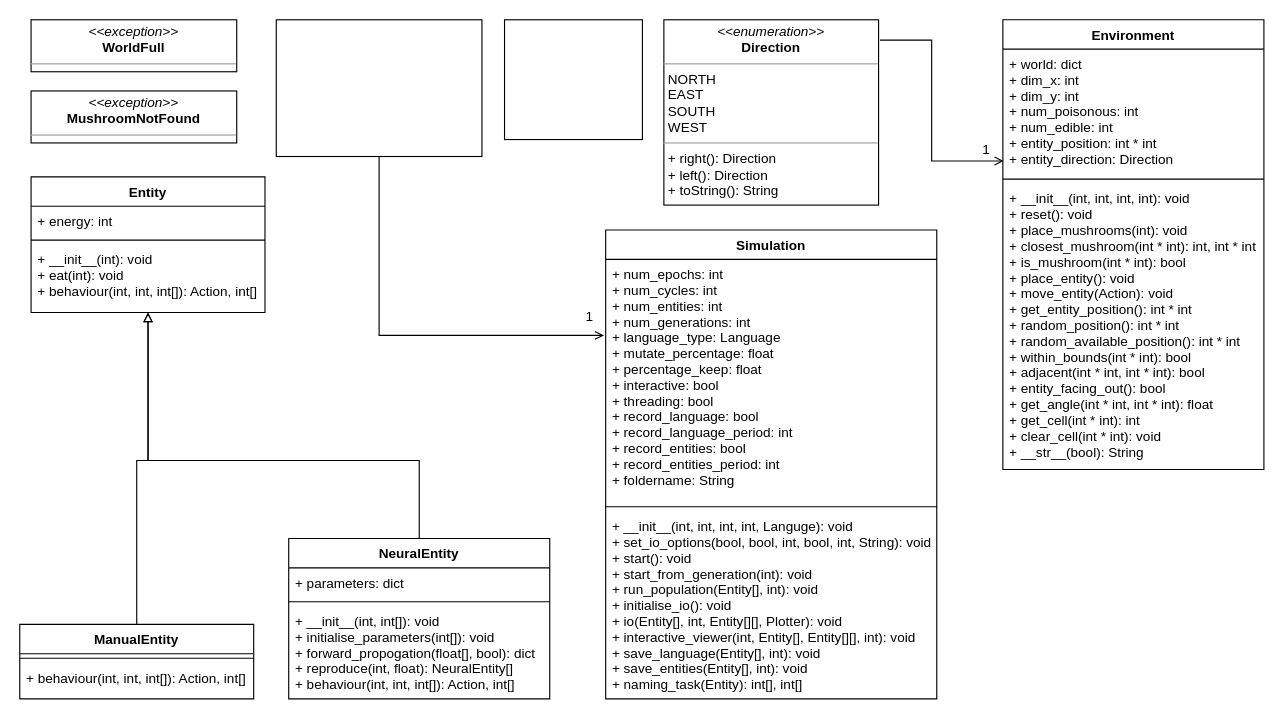
Some shapes in this 1284 by 722 pixel diagram are drawn without their labels. Here are the shapes that lost their labels. From the top down, the centre of each, then its label:
At (378,88): "<<enumeration>> Language NONE EXTERNAL EVOLVED + fromString(String): Language".
At (572,79): "<<enumeration>> Action FORWARDS LEFT RIGHT NOTHING".
